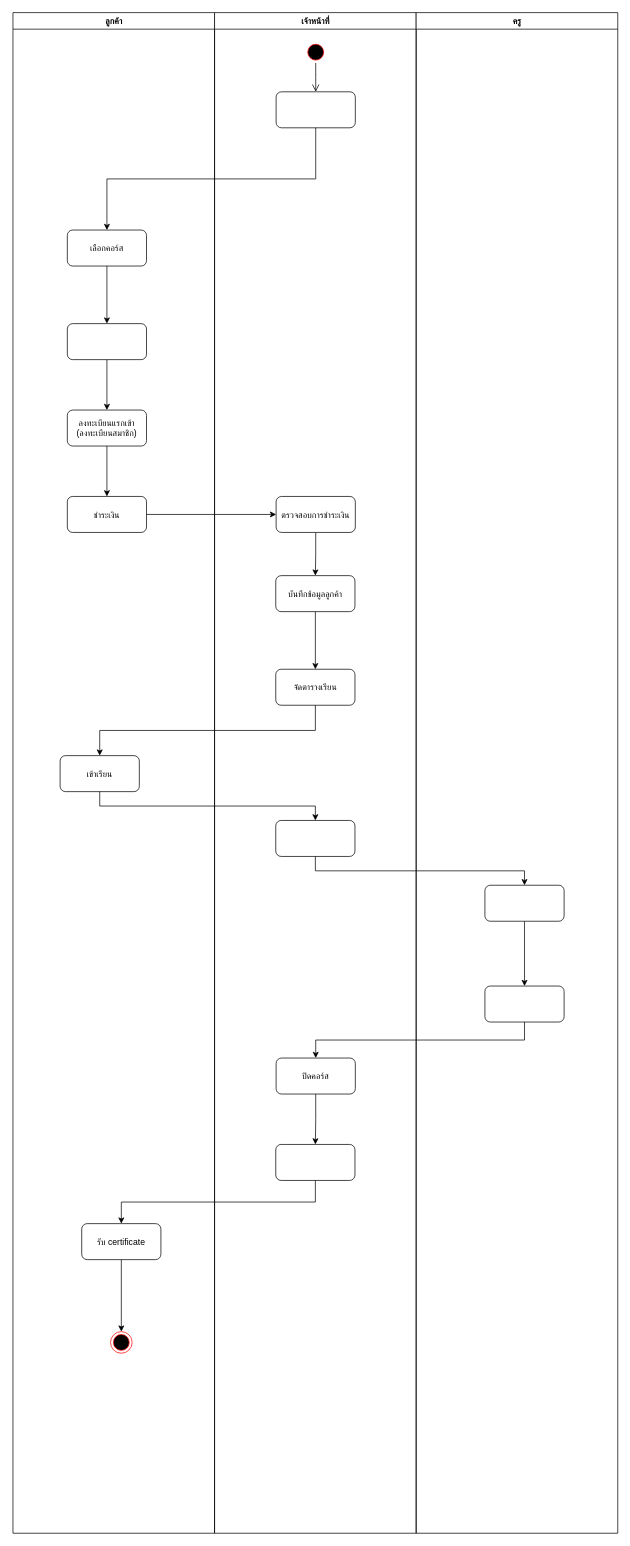
The diagram is 630 pixels wide and 1546 high, and some of its shapes have lost their labels. The shapes that lost their labels are listed below. From the top down, each one's centre as x and y in pixels, then its label:
the point at 315,109: เปิดคอร์ส
the point at 107,341: เลือกเวลา
the point at 315,838: เช็คคือ
the point at 524,903: เริ่มคอร์ส
the point at 524,1003: จบคอร์ส
the point at 315,1162: ทำ certificate
